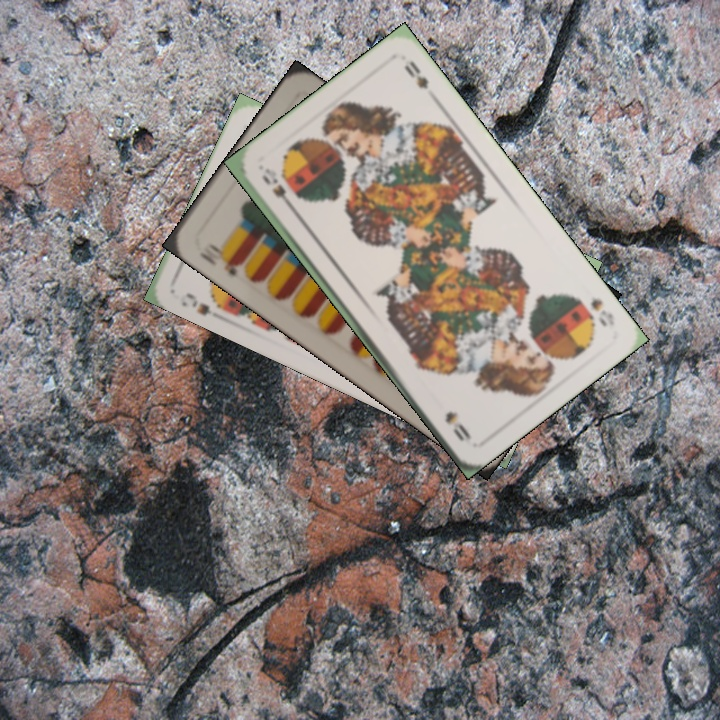E10: (195, 239, 244, 279)
S9: (181, 288, 230, 324)
SO: (257, 163, 298, 215), (586, 294, 617, 330)
